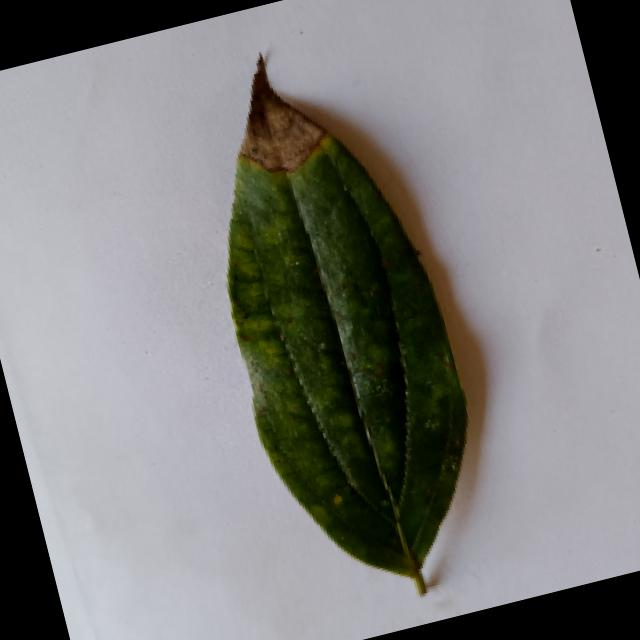footrot: (168, 26, 516, 624)
